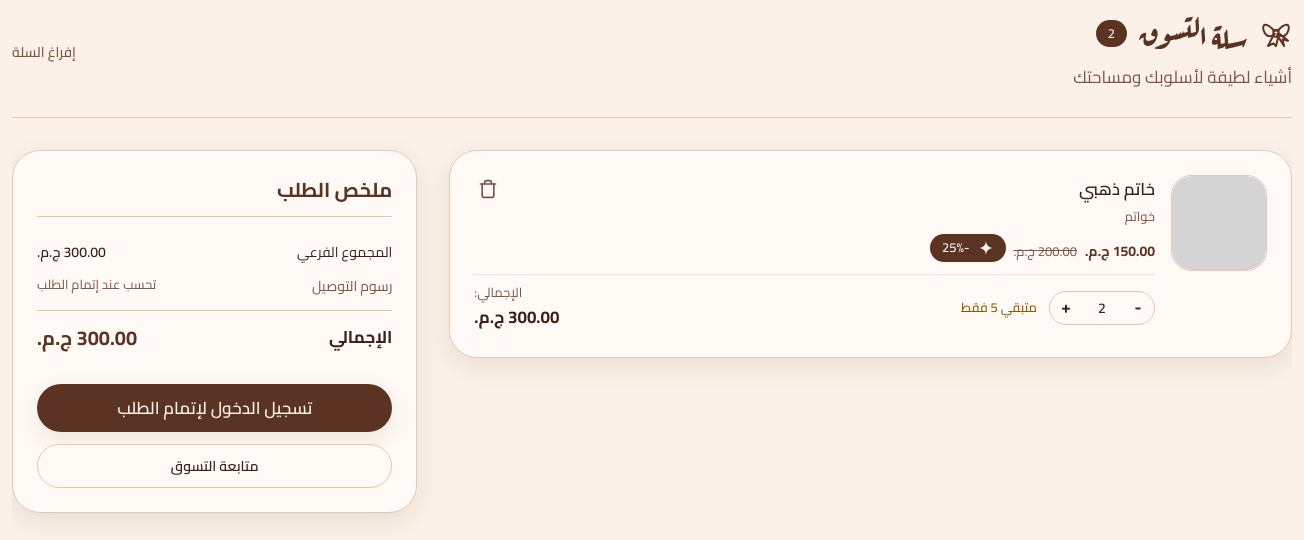
Test: CartPage (T-3.06) › removes item when delete button is clicked
This screenshot has width=1304, height=540.
Click the button named "حذف خاتم ذهبي": (488, 189) [474, 175, 502, 203]
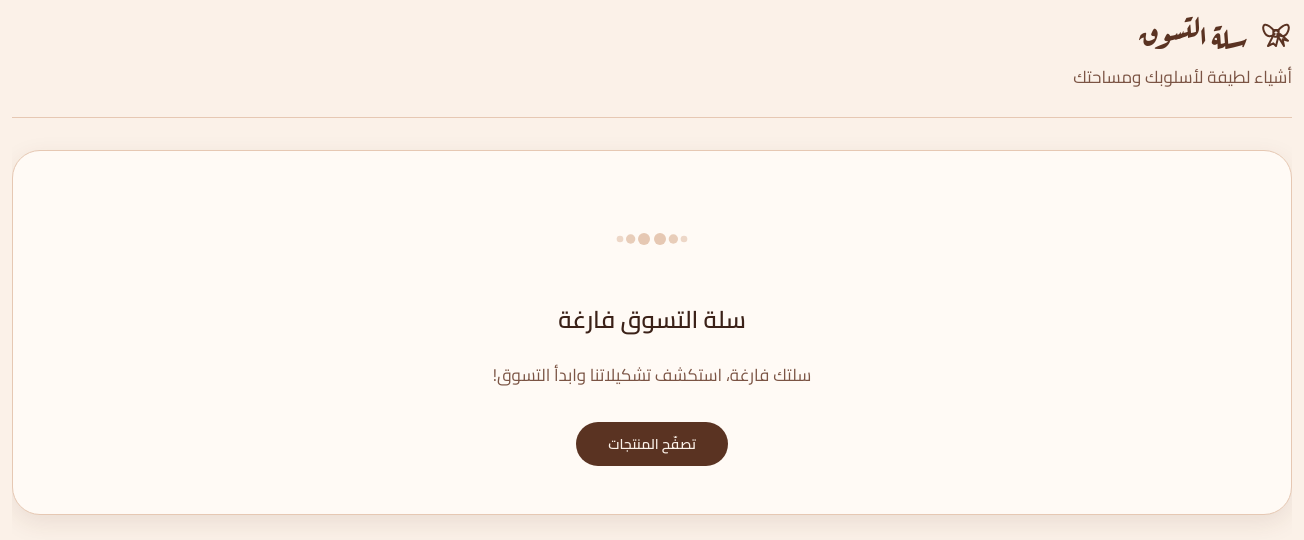
Now the heading "سلة التسوق فارغة" is shown, box [558, 297, 746, 342]
